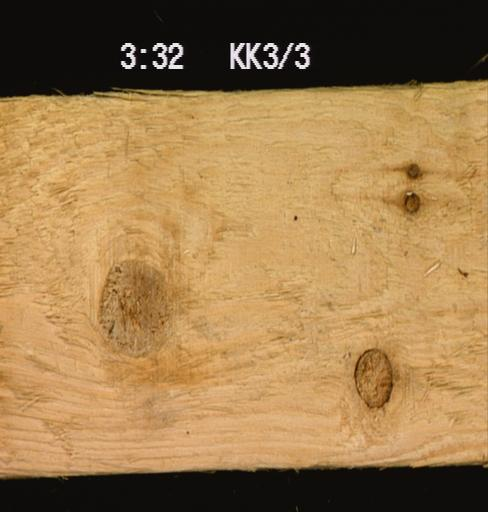dry_knot: (352, 346, 393, 409)
sound_knot: (95, 254, 178, 357)
split: (90, 89, 242, 107)
